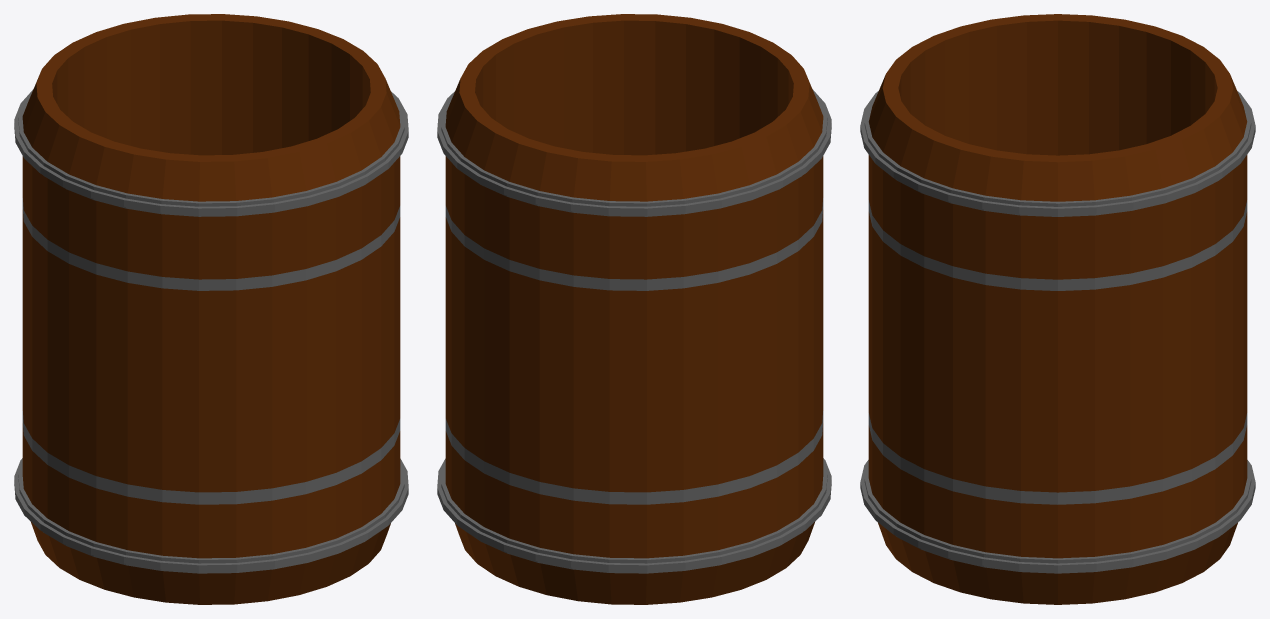
File: BarrelAsset.fbx
3 views of the same model, side by side, from view 1: azimuth 30°, elevation 25°; view 2: azimuth 150°, elevation 25°; view 3: azimuth 270°, elevation 25° (orthographic).
Parts seen in each view (by area): view 1: Cylinder; view 2: Cylinder; view 3: Cylinder.
Boxes of the visible parts, x1,y1,x2,y2 form: Cylinder: [14, 14, 408, 604]; Cylinder: [437, 14, 831, 604]; Cylinder: [860, 14, 1255, 604].
Size of the model in its own units: 209 by 258 by 209.
